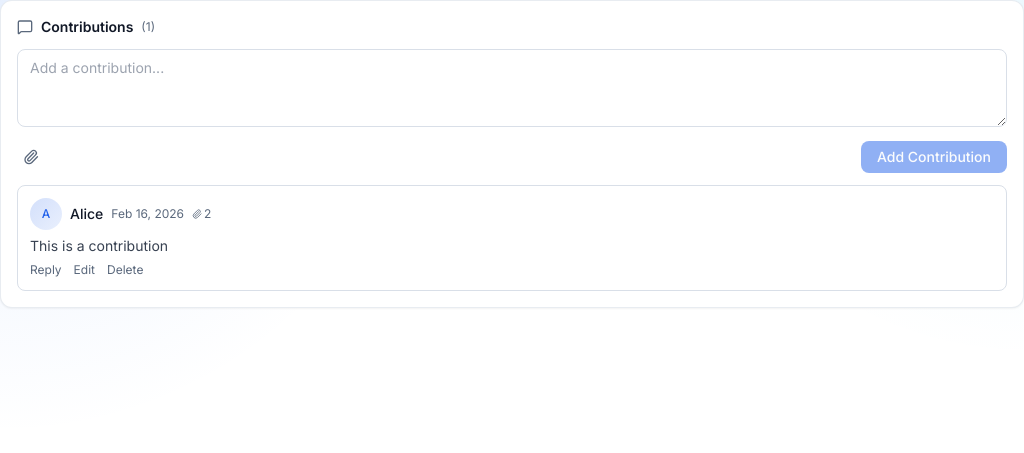
Test: CommentSection › Should_RenderDeleteFilesCheckbox_WhenCommentHasAttachments
Check: the text "This is a contribution" is shown, box [30, 237, 168, 254]
Click the button "Delete". click: click(125, 270)
box: [107, 262, 143, 278]
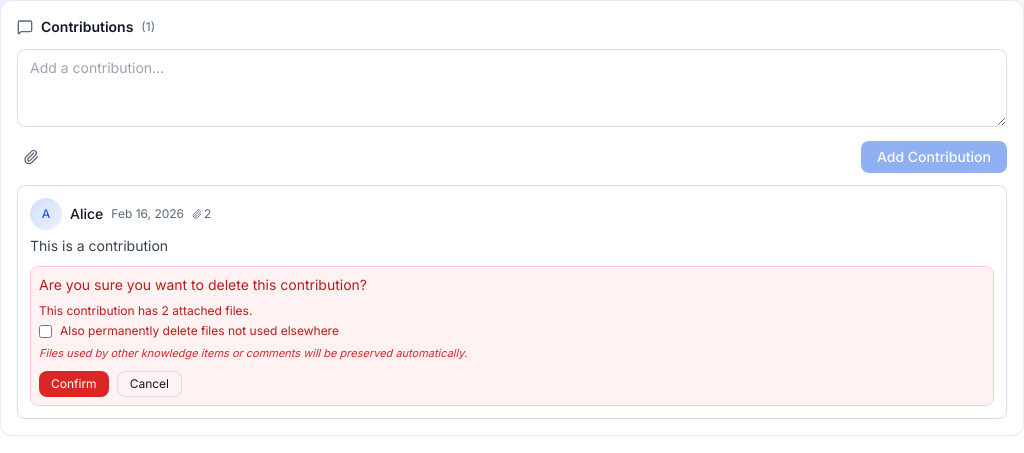
Check: the checkbox with test id "selfhosted-delete-comment-files-checkbox" is not checked, box [39, 325, 52, 338]
